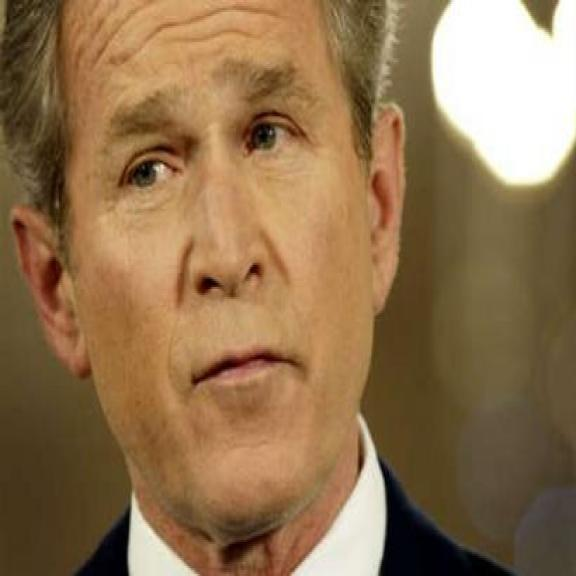face: (7, 0, 417, 544)
